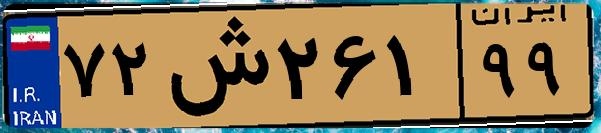1: (385, 28, 445, 110)
2: (270, 28, 330, 110), (110, 28, 158, 98)
6: (330, 28, 385, 110)
7: (57, 26, 110, 100)
9: (475, 38, 525, 113), (525, 38, 570, 115)
ش: (158, 12, 270, 120)
